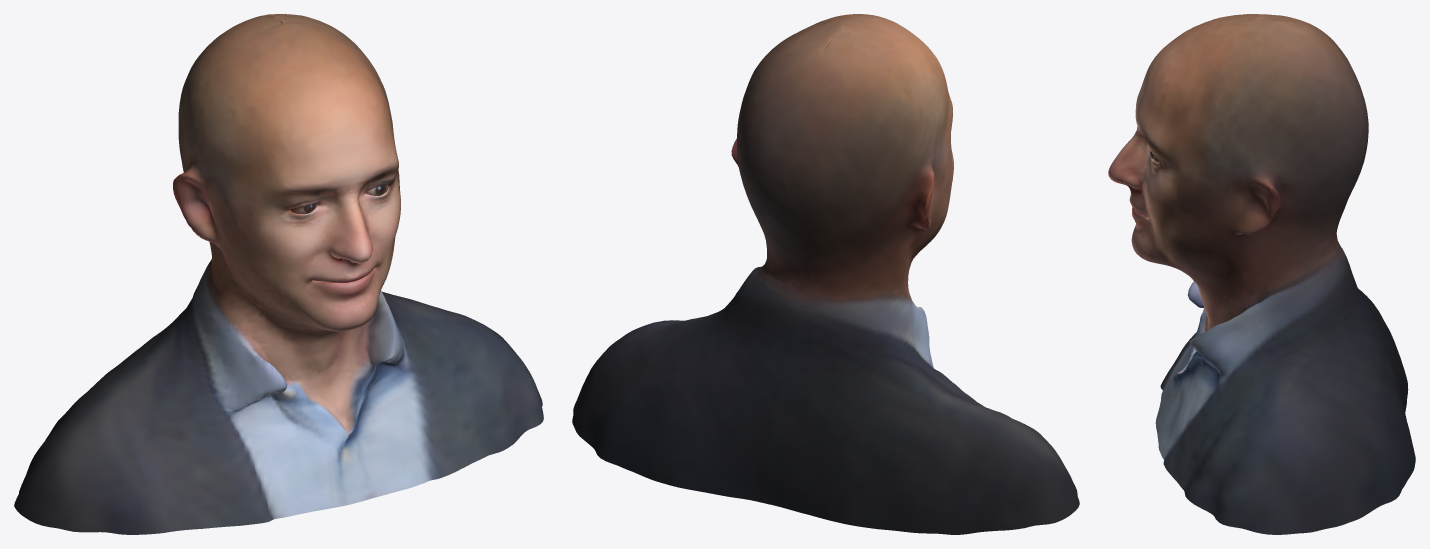
Rendered from jeff_bezos.glb.
3 views of the same model, side by side, from view 1: azimuth 30°, elevation 25°; view 2: azimuth 150°, elevation 25°; view 3: azimuth 270°, elevation 25° (orthographic). The views are drawn at different scales.
Parts seen in each view (by area): view 1: JeffBezos; view 2: JeffBezos; view 3: JeffBezos.
Part boxes in pixels (box(x1,y1,x2,y2)): JeffBezos: box(14, 14, 543, 534); JeffBezos: box(572, 14, 1079, 534); JeffBezos: box(1108, 14, 1415, 534).
Size of the model in its own units: 0.458 by 0.378 by 0.2627.
Materials: 1 (1 with a texture image).
